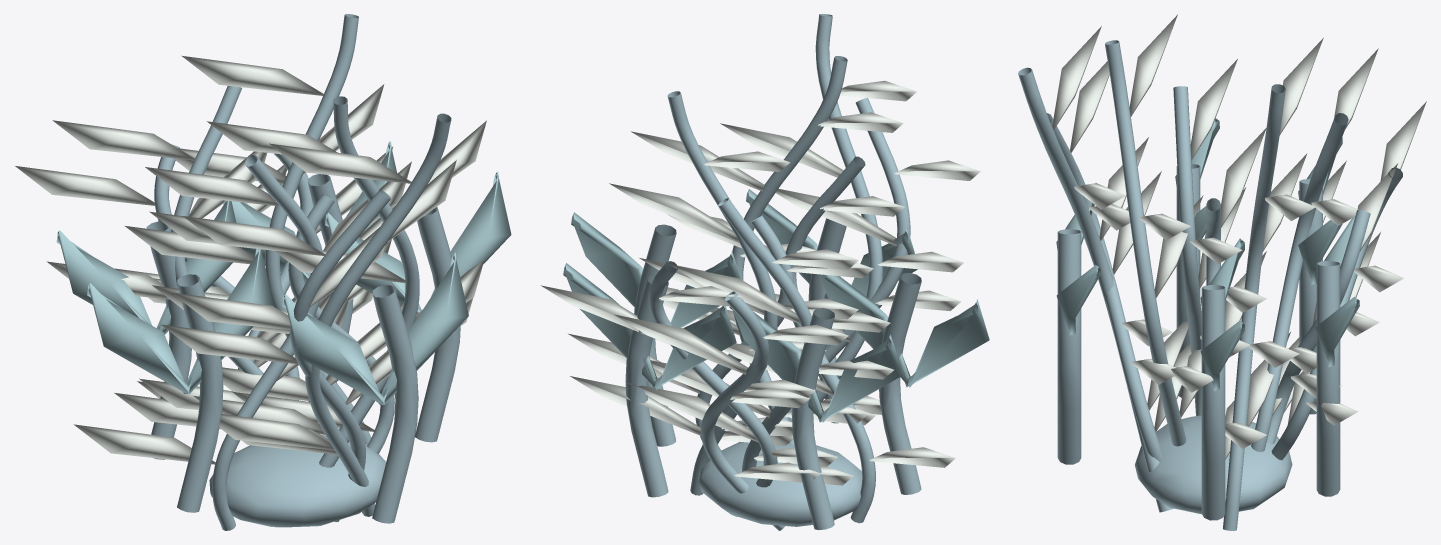
File: bio_aquatic_frond_12_far.glb
3 views of the same model, side by side, from view 1: azimuth 30°, elevation 25°; view 2: azimuth 150°, elevation 25°; view 3: azimuth 270°, elevation 25° (orthographic). The views are drawn at different scales.
Visible parts, largest first — view 1: Holdfast, Ruffled aquatic blade.010, Ruffled aquatic blade.040, Secondary fan lobe.004, Ruffled aquatic blade.035, Ruffled aquatic blade.020, Secondary fan lobe.008, Ruffled aquatic blade.025, Flexible stipe.002, Branching support.002, Ruffled aquatic blade.005, Branching support.004 (+17 smaller); view 2: Ruffled aquatic blade.030, Holdfast, Ruffled aquatic blade.005, Ruffled aquatic blade.015, Secondary fan lobe.008, Ruffled aquatic blade.010, Secondary fan lobe.002, Branching support.001, Ruffled aquatic blade.020, Ruffled aquatic blade.040, Branching support.003, Secondary fan lobe.006 (+17 smaller); view 3: Holdfast, Flexible stipe.005, Flexible stipe.008, Branching support.002, Branching support, Ruffled aquatic blade.040, Branching support.003, Ruffled aquatic blade.025, Flexible stipe.001, Ruffled aquatic blade.010, Ruffled aquatic blade.035, Flexible stipe.002 (+17 smaller).
Part boxes in pixels (<box>): Holdfast: <box>209,435,386,527</box>; Ruffled aquatic blade.010: <box>171,143,456,450</box>; Ruffled aquatic blade.040: <box>125,55,391,402</box>; Secondary fan lobe.004: <box>282,252,468,404</box>; Ruffled aquatic blade.035: <box>161,216,392,454</box>; Ruffled aquatic blade.020: <box>73,161,411,464</box>; Secondary fan lobe.008: <box>87,249,273,394</box>; Ruffled aquatic blade.025: <box>193,120,486,434</box>; Flexible stipe.002: <box>305,113,451,516</box>; Branching support.002: <box>372,285,418,523</box>; Ruffled aquatic blade.005: <box>46,120,296,409</box>; Branching support.004: <box>177,274,223,512</box>; Ruffled aquatic blade.030: <box>570,314,848,482</box>; Holdfast: <box>698,442,862,526</box>; Ruffled aquatic blade.005: <box>650,249,893,466</box>; Ruffled aquatic blade.015: <box>540,285,853,485</box>; Secondary fan lobe.008: <box>819,274,989,387</box>; Ruffled aquatic blade.010: <box>720,80,963,414</box>; Secondary fan lobe.002: <box>729,306,902,422</box>; Branching support.001: <box>791,308,834,529</box>; Ruffled aquatic blade.020: <box>667,196,955,467</box>; Ruffled aquatic blade.040: <box>609,151,858,436</box>; Branching support.003: <box>625,275,668,497</box>; Secondary fan lobe.006: <box>563,263,736,389</box>; Holdfast: <box>1135,415,1292,514</box>; Flexible stipe.005: <box>1105,40,1186,446</box>; Flexible stipe.008: <box>1223,84,1285,530</box>; Branching support.002: <box>1057,229,1081,464</box>; Branching support: <box>1201,285,1225,520</box>; Ruffled aquatic blade.040: <box>1246,37,1323,426</box>; Branching support.003: <box>1316,261,1340,496</box>; Ruffled aquatic blade.025: <box>1129,14,1213,417</box>; Flexible stipe.001: <box>1251,113,1348,451</box>; Ruffled aquatic blade.010: <box>1052,26,1188,410</box>; Ruffled aquatic blade.035: <box>1070,61,1191,431</box>; Flexible stipe.002: <box>1018,67,1173,512</box>.
Bounding box in the file's own units: 1.85 × 1.89 × 1.56.
